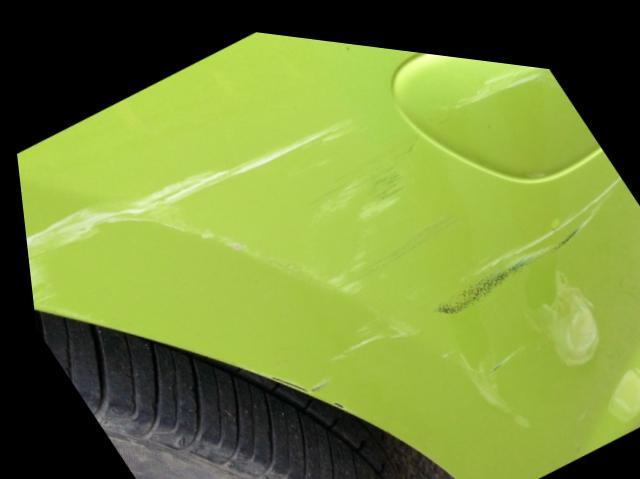scratch: (20, 48, 640, 425)
